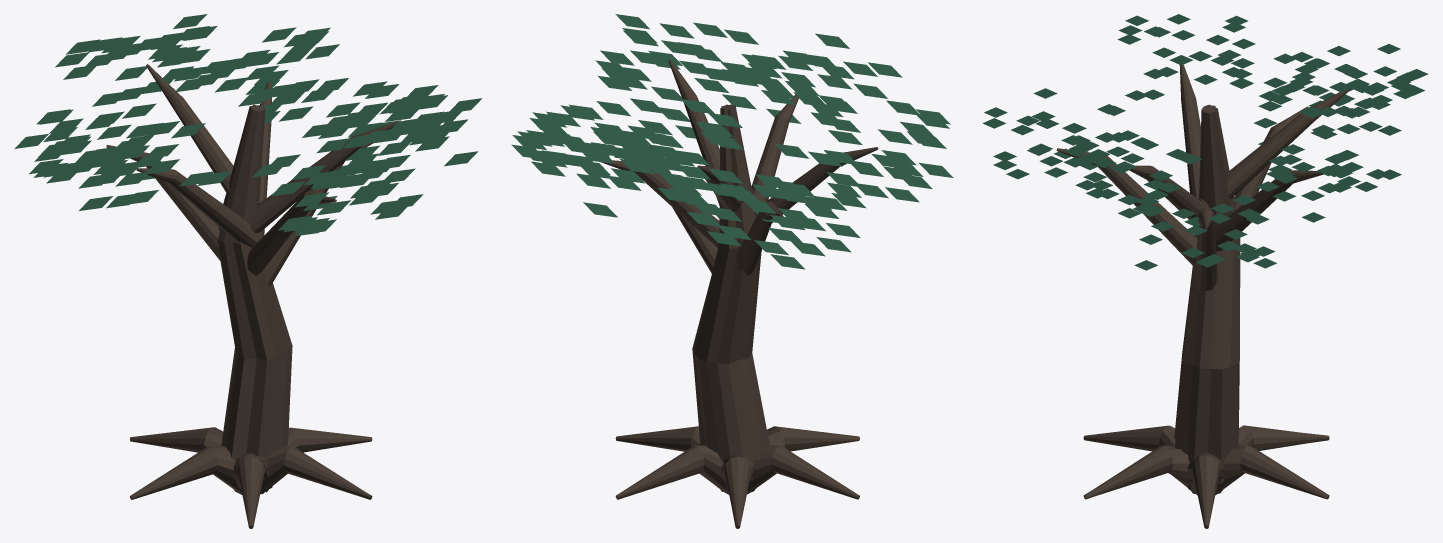
File: ShardwoodElder.fbx
3 renders of one model, left to right at view 1: azimuth 30°, elevation 25°; view 2: azimuth 150°, elevation 25°; view 3: azimuth 270°, elevation 25°, orthographic.
Parts seen in each view (by area): view 1: ShardwoodElder; view 2: ShardwoodElder; view 3: ShardwoodElder.
Boxes of the visible parts, x1,y1,x2,y2 form: ShardwoodElder: (14, 14, 482, 528); ShardwoodElder: (511, 14, 953, 528); ShardwoodElder: (982, 14, 1428, 528).
Bounding box in the file's own units: 5.01 × 4.96 × 4.77.
